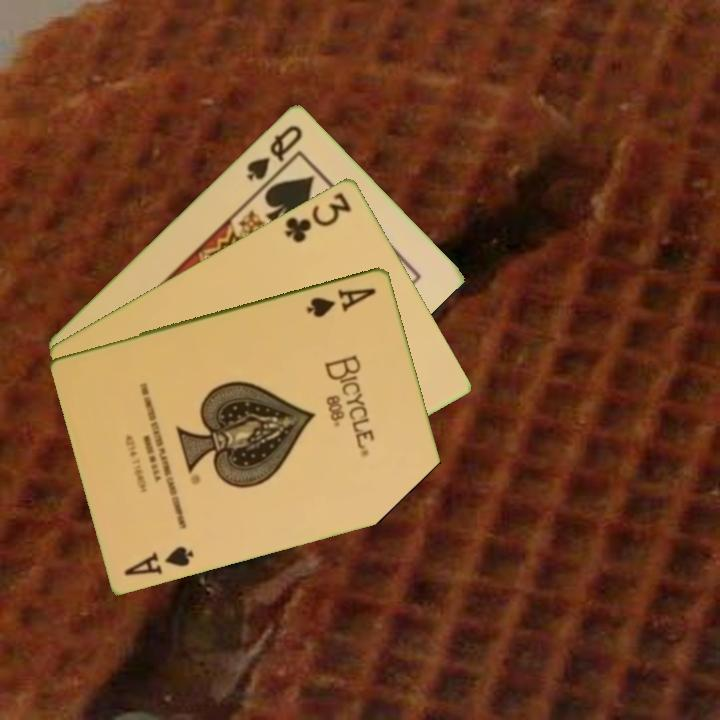3c: (281, 188, 355, 246)
As: (303, 283, 380, 320), (121, 541, 198, 578)
Qs: (242, 121, 306, 184)
